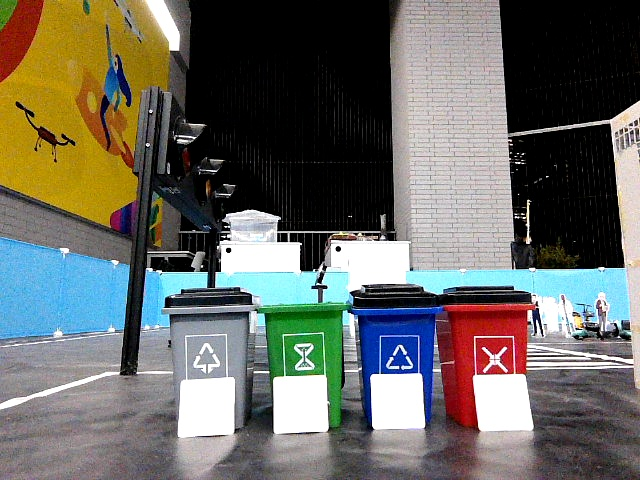blue_close: (357, 284, 430, 369)
green_open: (269, 303, 339, 372)
grey_close: (169, 288, 249, 375)
red_close: (445, 286, 524, 373)
